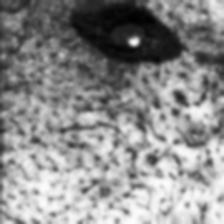Unclassified: (80, 0, 168, 77)
